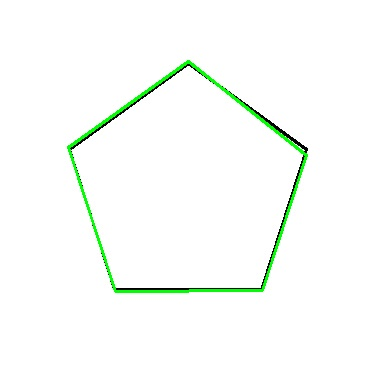line_segment: (68, 61, 308, 292)
